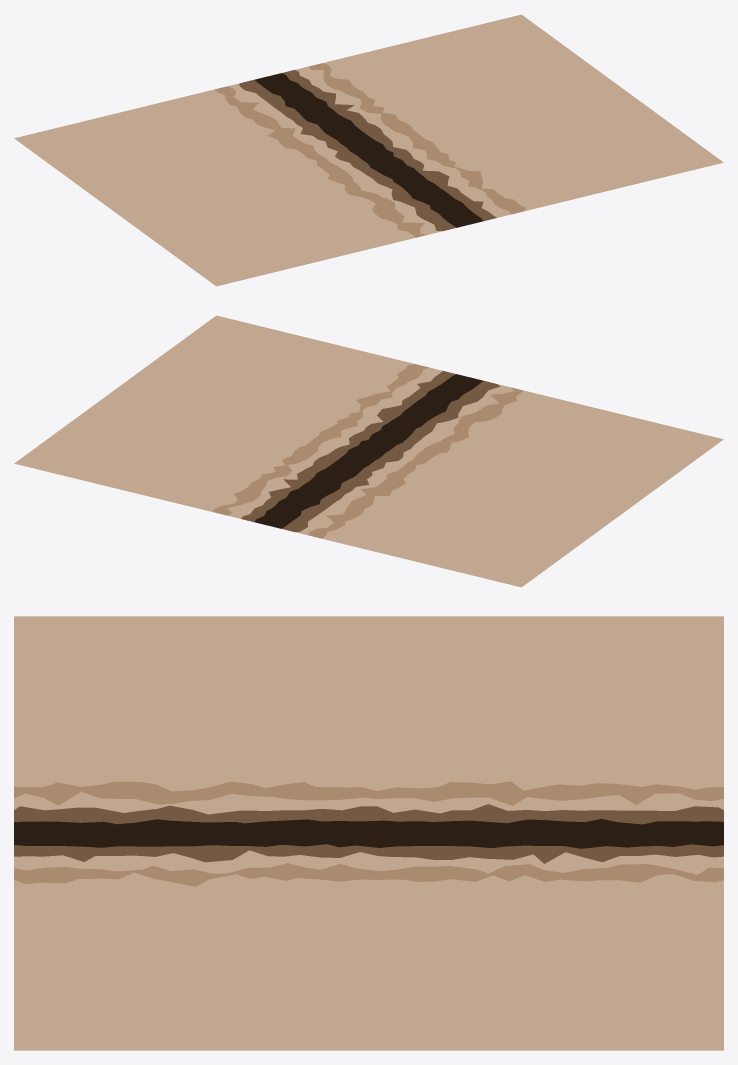
File: ground.fbx
3 renders of one model, top to bottom at view 1: azimuth 30°, elevation 25°; view 2: azimuth 150°, elevation 25°; view 3: azimuth 270°, elevation 25°, orthographic. The views are drawn at different scales.
Parts seen in each view (by area): view 1: ground; view 2: ground; view 3: ground.
Part boxes in pixels (x1=…): ground: x1=14, y1=14, x2=723, y2=286; ground: x1=14, y1=315, x2=723, y2=587; ground: x1=14, y1=616, x2=723, y2=1050.
Size of the model in its own units: 15204 by 0.00171 by 10500.
1 material, 1 textured.
